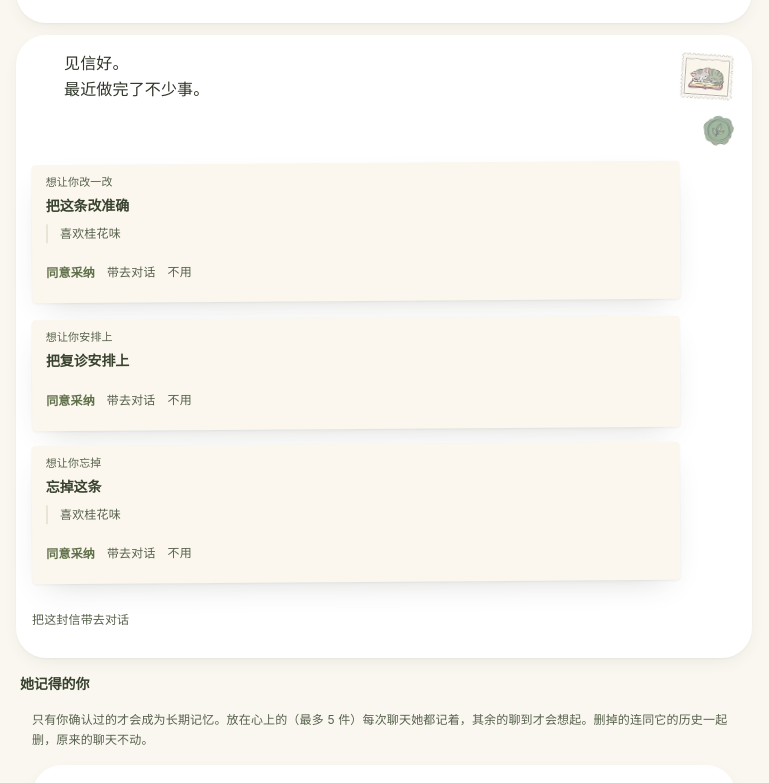
Test case: 来信建议的三个一键动作 › 「不用」走 decide（dismiss），条目变成「没采纳」，不碰记忆与安排
The image size is (769, 783).
(page scrolled)
Check: the text "见信好。" is shown, box [64,53,129,73]
Click the button "不用" below "把复诊安排上". click: point(180, 400)
box: [167,377,192,422]
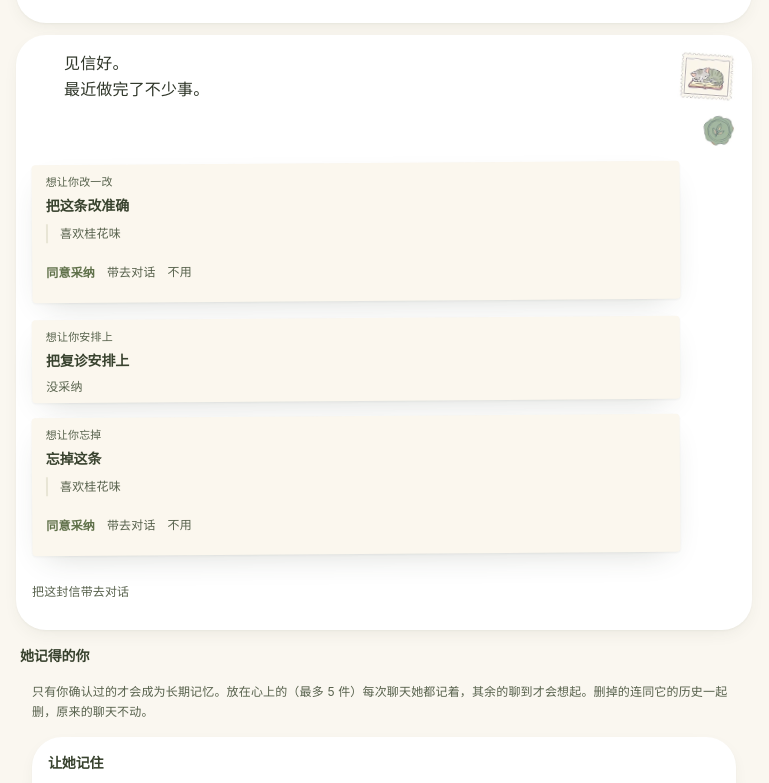
Check: the text "没采纳" is shown, box [46,378,83,393]
